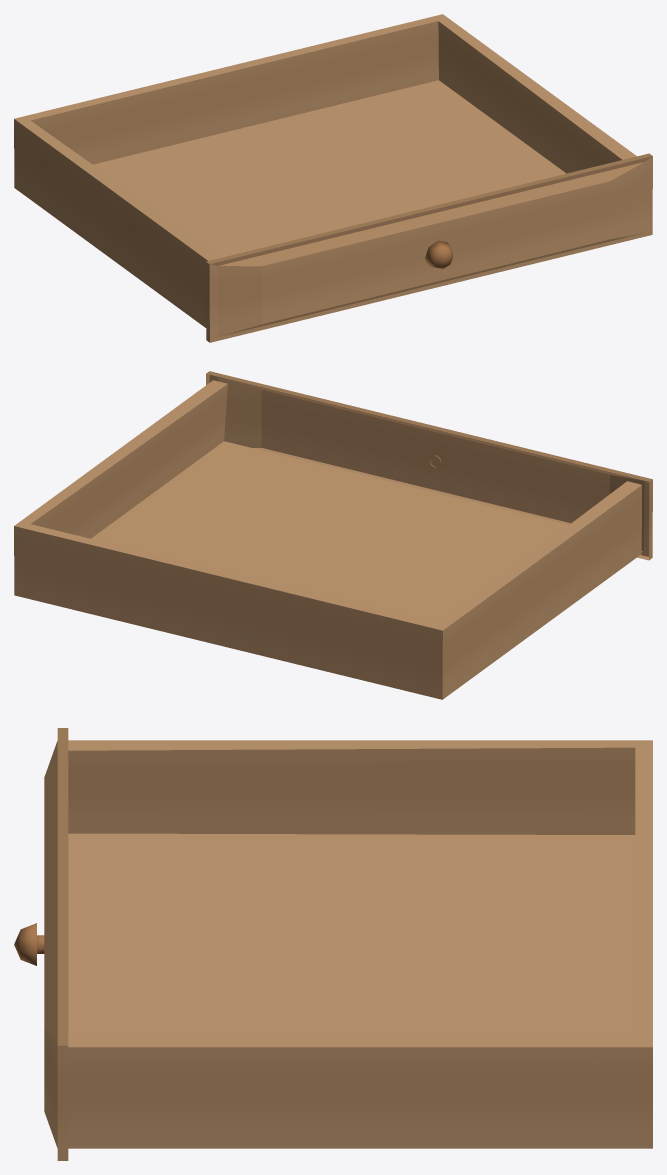
The model's file is LongDrawer.glb.
3 renders of one model, top to bottom at view 1: azimuth 30°, elevation 25°; view 2: azimuth 150°, elevation 25°; view 3: azimuth 270°, elevation 25°, orthographic. The views are drawn at different scales.
Parts seen in each view (by area): view 1: Cube.002; view 2: Cube.002; view 3: Cube.002.
Part boxes in pixels (bbox=[...]): Cube.002: bbox=[14, 14, 652, 342]; Cube.002: bbox=[14, 371, 652, 699]; Cube.002: bbox=[14, 728, 652, 1160].
Bounding box in the file's own units: 2.99 × 0.5067 × 2.54.
2 materials, 1 textured.
